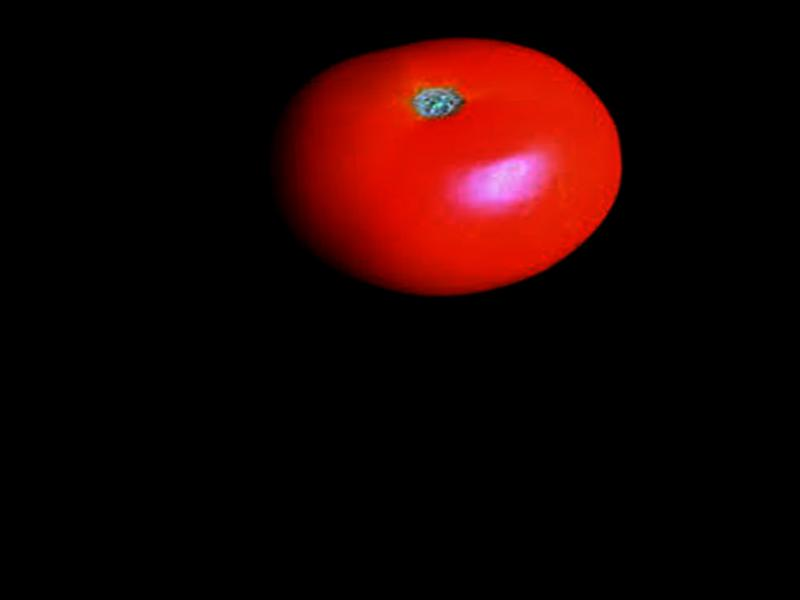Tomato: (261, 27, 631, 306)
